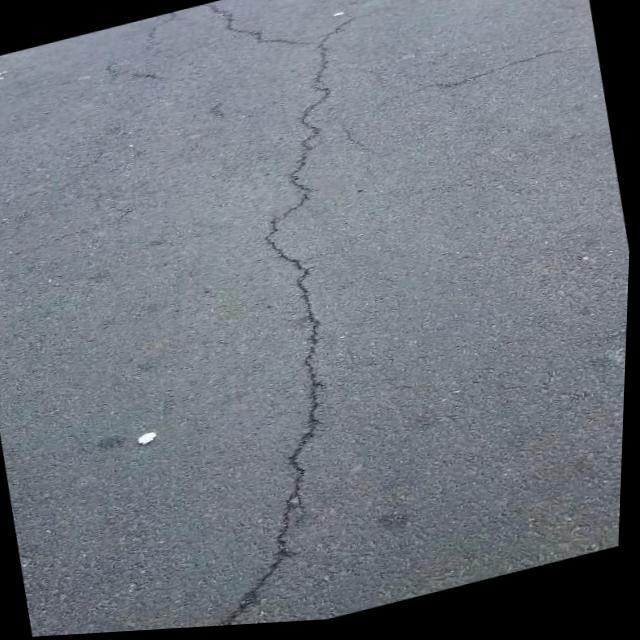Crack: (64, 0, 496, 636)
